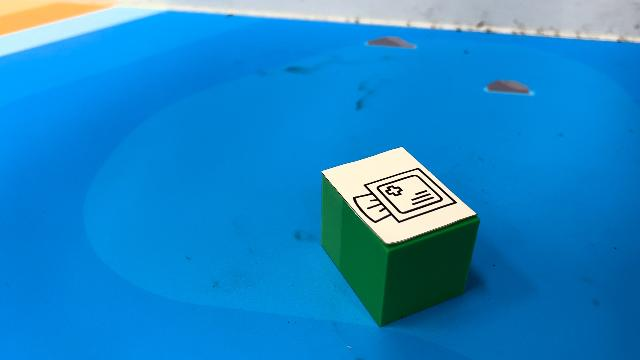napkin: (319, 144, 481, 328)
